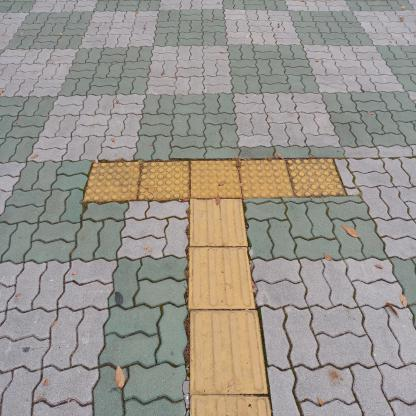podotacti: (74, 149, 350, 416)
